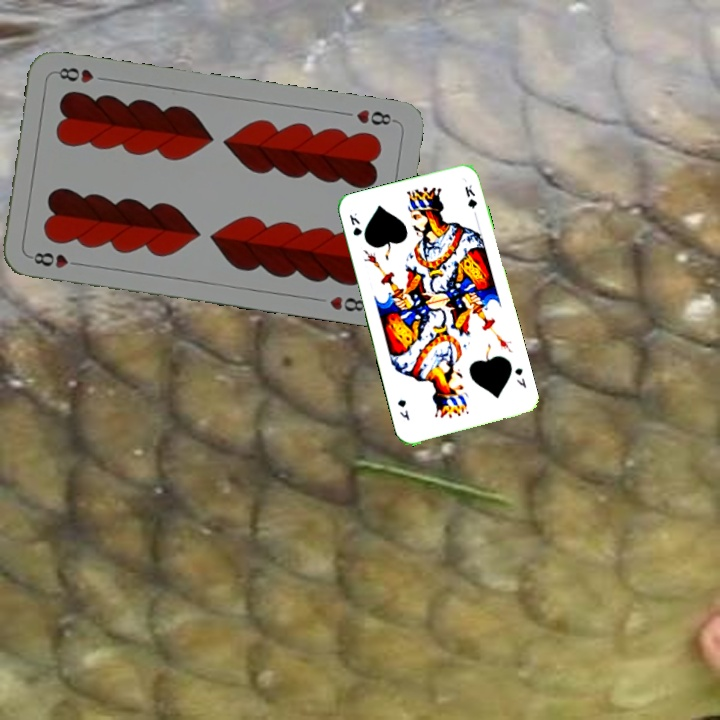GK: (345, 209, 365, 238), (510, 364, 529, 391)
H8: (26, 248, 85, 271), (352, 105, 398, 128)
